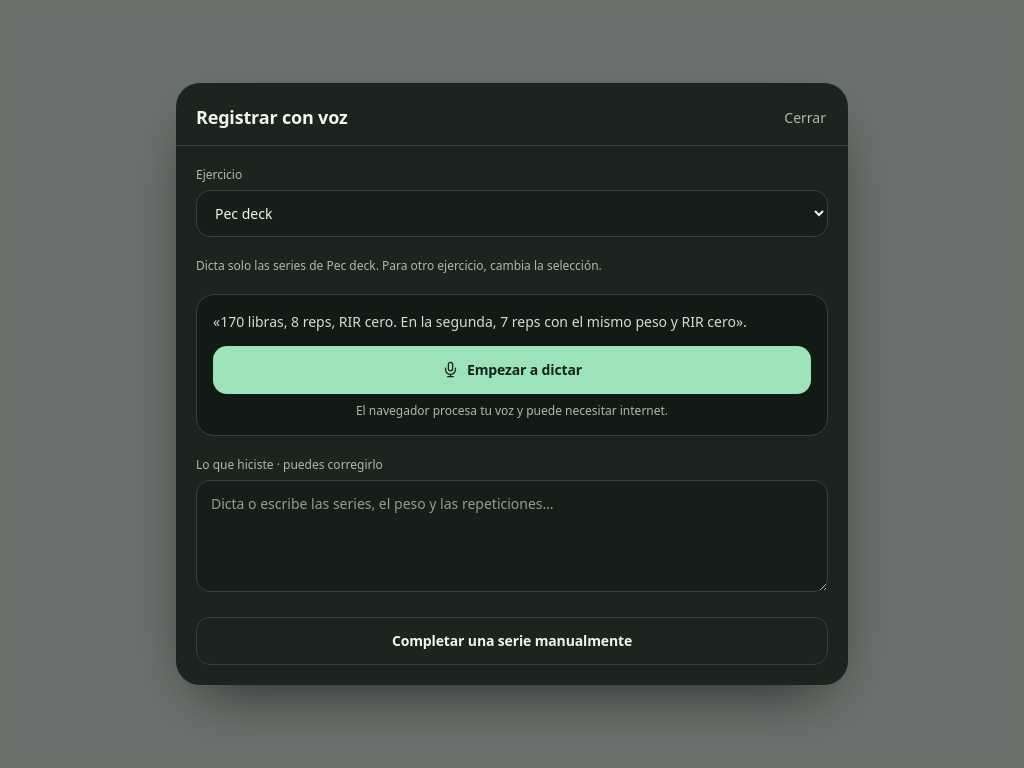
Test: revisión del registro por voz › asigna nuevas series después de las completadas y limpia la revisión al cambiar de ejercicio
This screenshot has width=1024, height=768.
In the text box labelled "Lo que hiciste · puedes corregirlo": (512, 536) [196,480,828,592], type "70 kg, 8 reps"
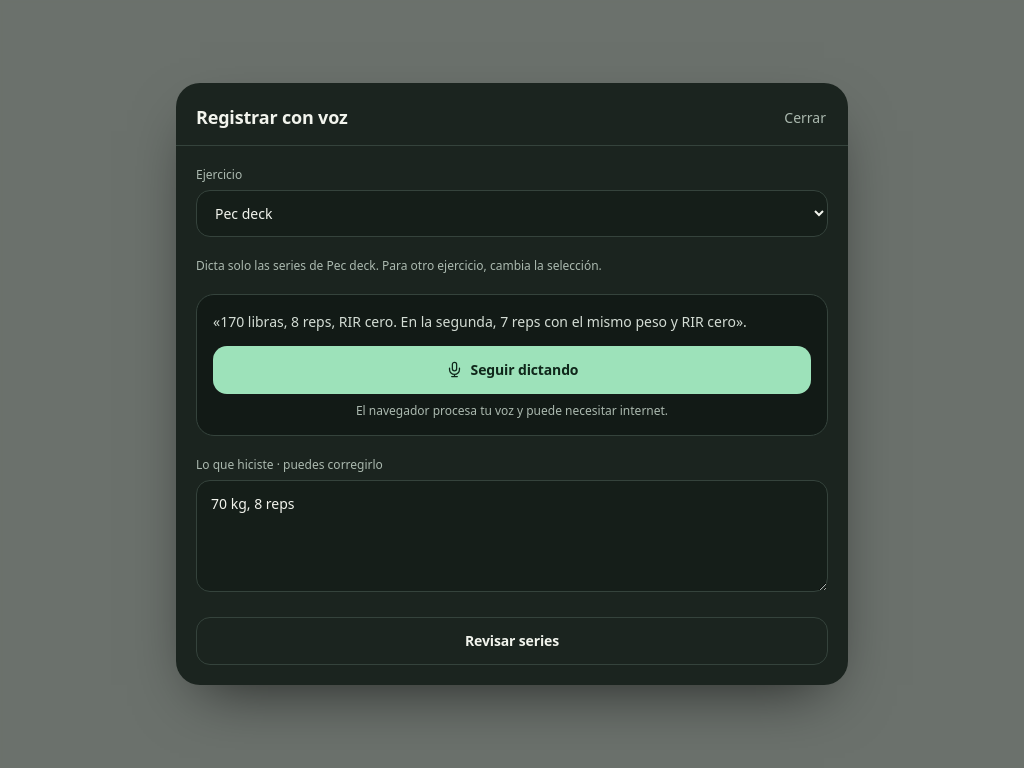
Click the button "Revisar series": click(512, 641) [196,617,828,665]
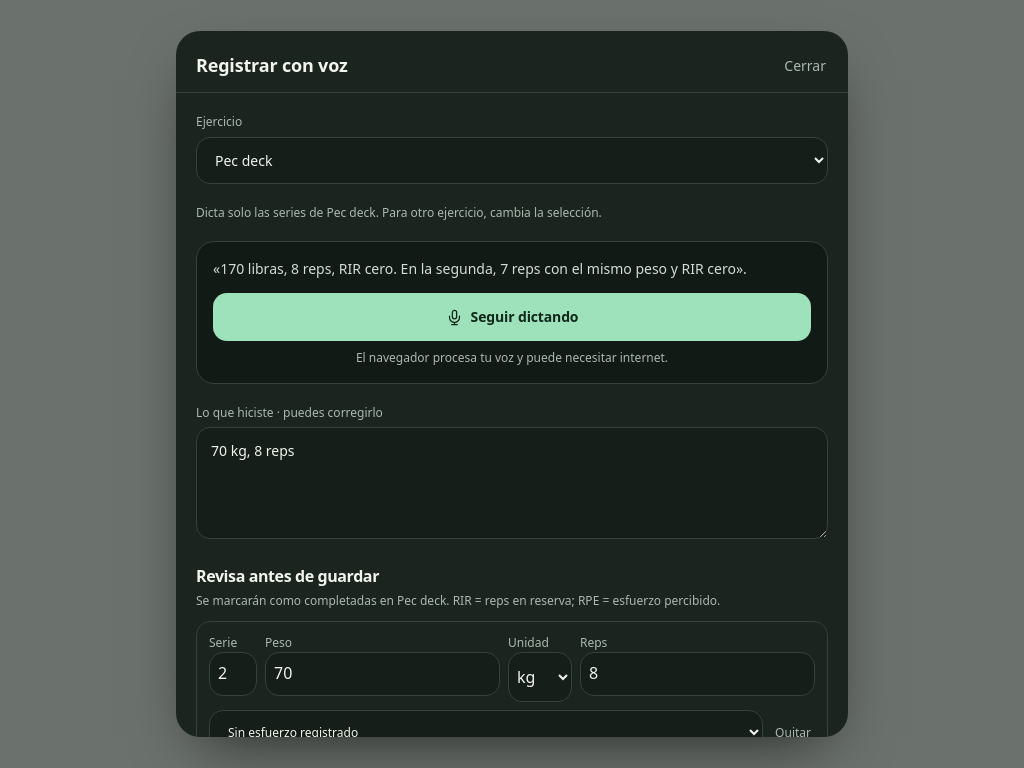
Now the number field named "Número de serie" holds "2", box [209,652,257,696]
Select "Remo" in the dropdown labelled "Ejercicio": (512, 160) [196,137,828,184]
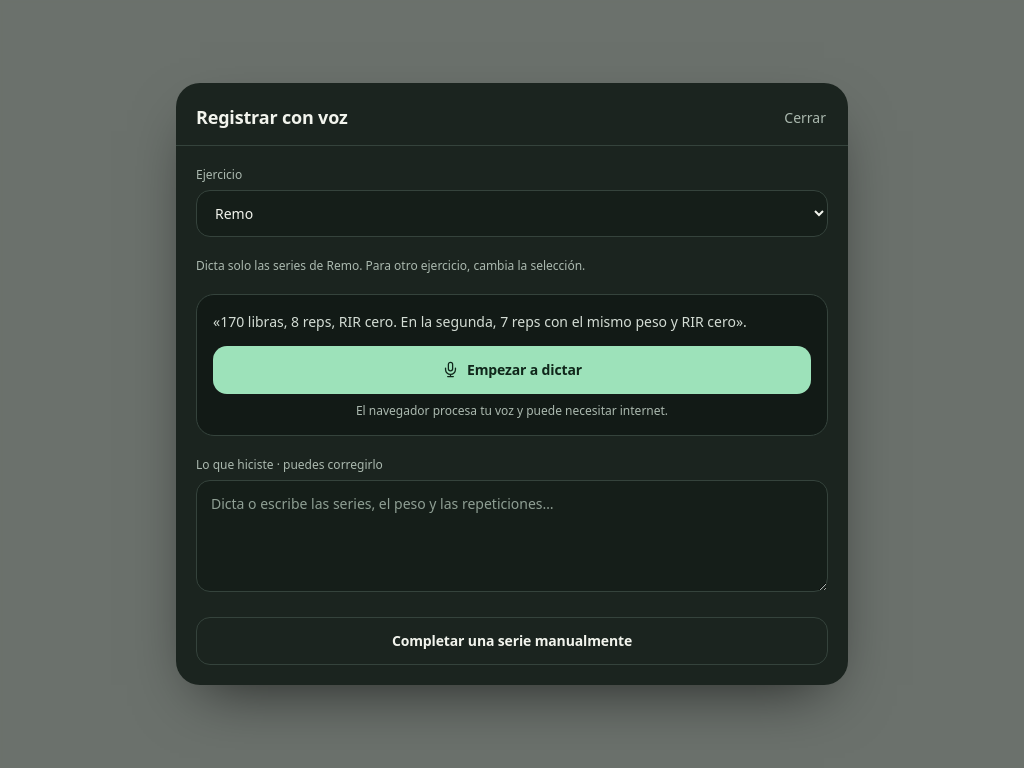
Now the number field labelled "Número de serie" is gone
Now the text box labelled "Lo que hiciste · puedes corregirlo" is empty, box [196,480,828,592]
Click the button "Completar una serie manualmente": click(512, 641) [196,617,828,665]
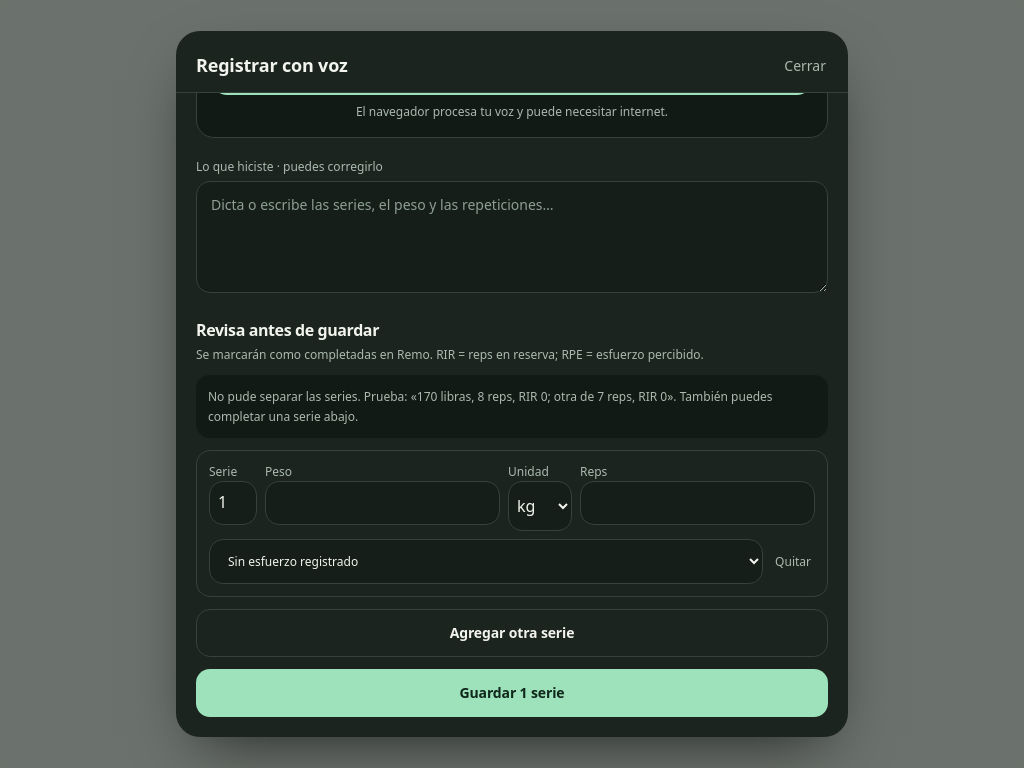
Now the number field named "Número de serie" holds "1", box [209,481,257,524]
